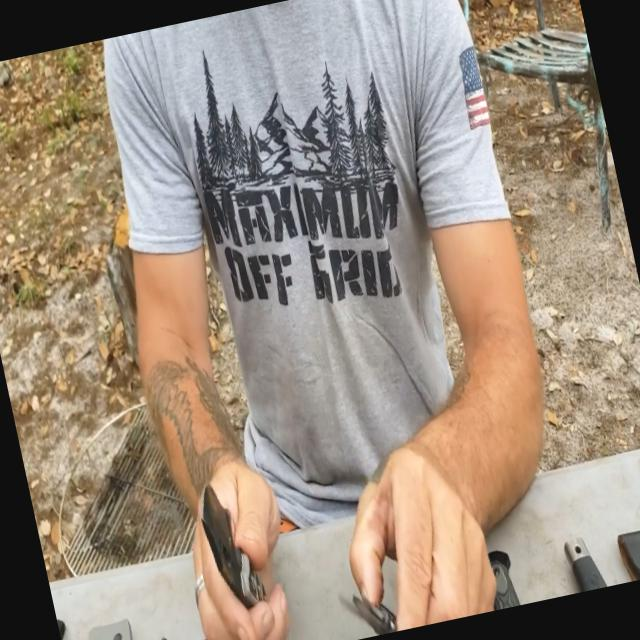knife: (149, 457, 280, 616), (334, 542, 422, 640)
